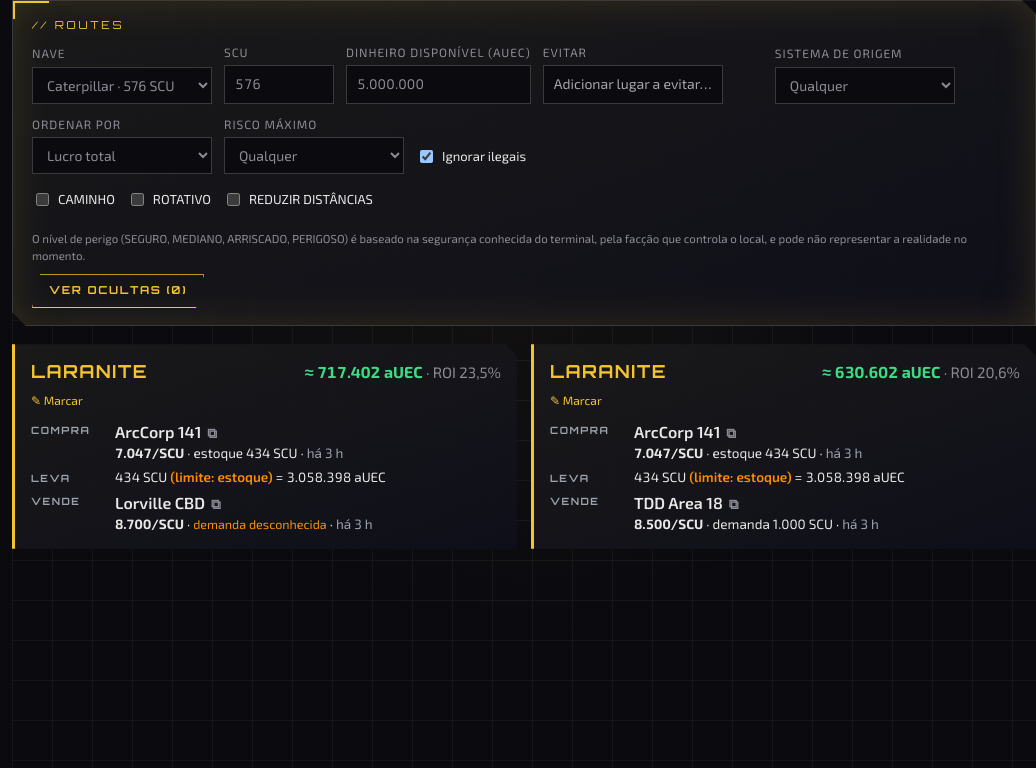
Test case: marcações nas rotas › Ver ocultas sem nenhuma oculta mostra só uma mensagem
Click the button "Ver ocultas (0)".
click(118, 291)  # box left=32, top=274, right=204, bottom=308
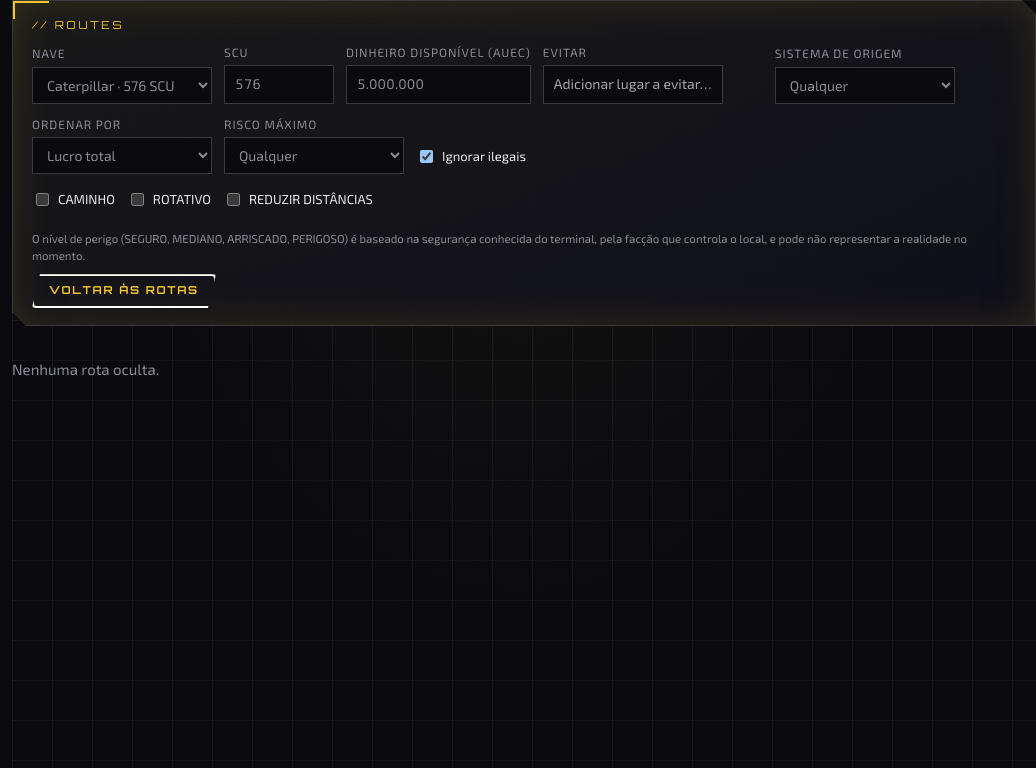
expect the text "Nenhuma rota oculta." is shown: met, box left=12, top=360, right=159, bottom=378
